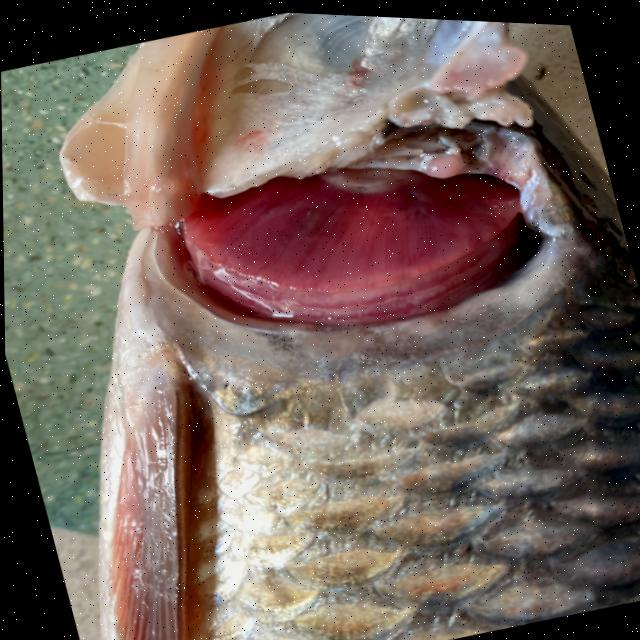Fresh: (105, 71, 600, 413)
